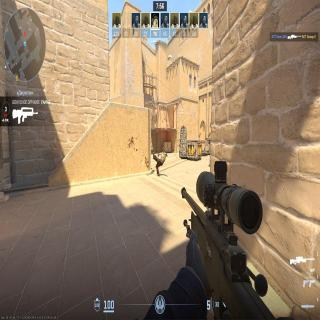T-Body: (154, 146, 169, 174)
T-Head: (162, 147, 166, 153)
